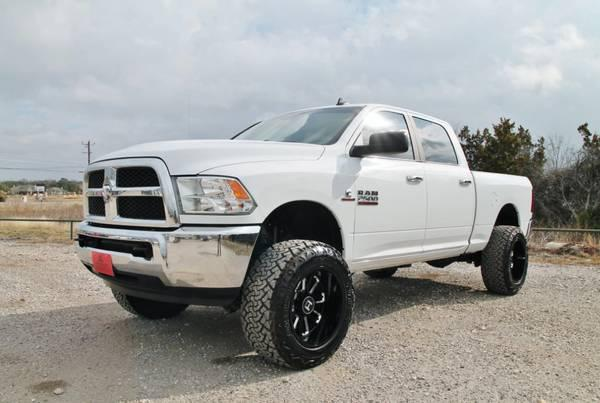Front_Bumper: (71, 221, 260, 305)
Front_Fender: (198, 151, 360, 269)
Front_Left_Door: (356, 158, 426, 271)
Front_Left_Window: (350, 113, 423, 164)
Front_Windshield: (234, 104, 364, 146)
Grille: (82, 158, 182, 229)
Hood: (96, 138, 330, 175)
Left_Headlight: (174, 175, 261, 227)
Rear_Fender: (464, 171, 531, 252)
Rear_Left_Door: (422, 162, 474, 259)
Rear_Left_Window: (407, 115, 458, 166)
Roof: (335, 105, 467, 170)
Wheel: (242, 235, 356, 364), (482, 222, 531, 292)
